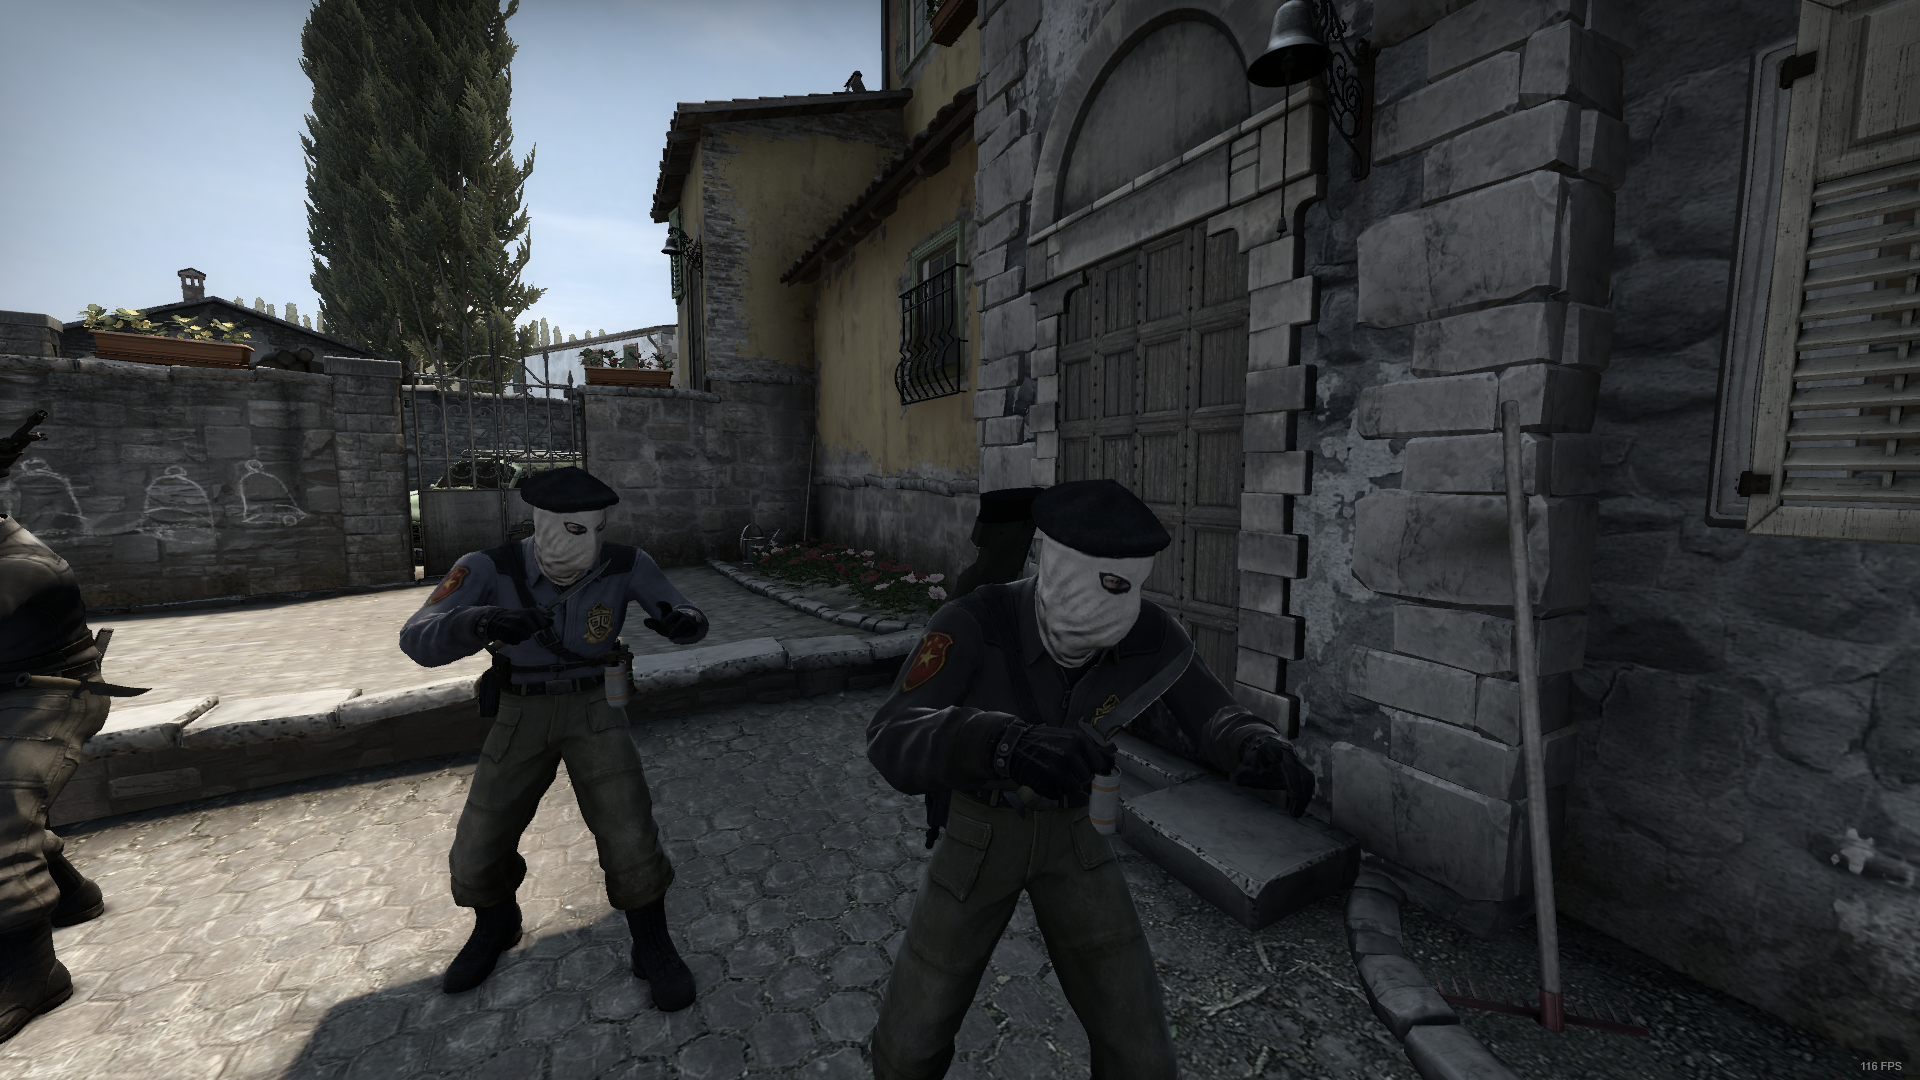t: (866, 479, 1313, 1080), (398, 464, 709, 1010)
